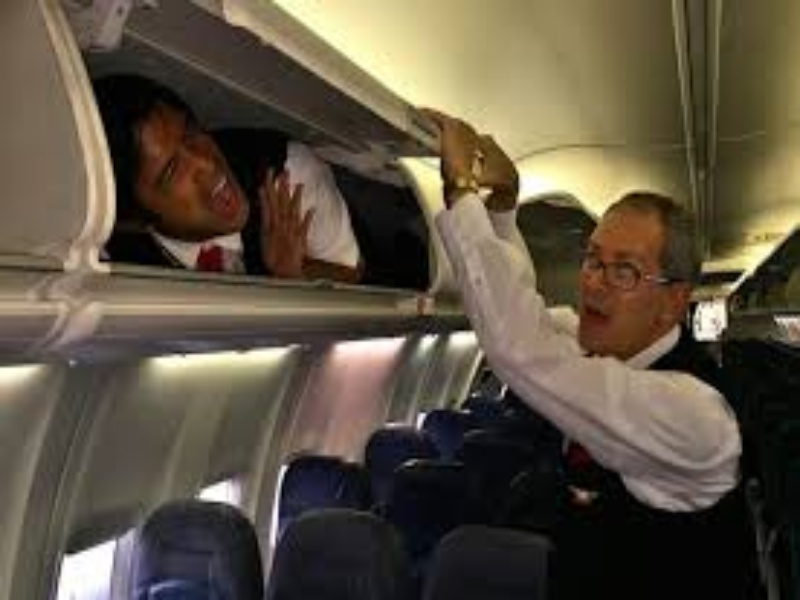open_bin: (56, 4, 467, 353), (490, 159, 594, 332), (741, 254, 800, 326), (718, 274, 767, 325)
